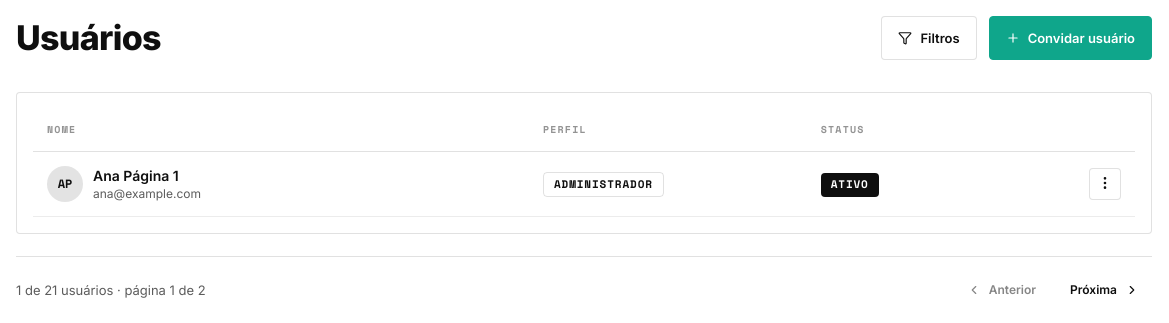
Test case: Usuarios — ADMIN/SUPORTE (veem tudo, criam tudo) › asks GET /v1/usuarios for the next page instead of slicing locally
This screenshot has width=1169, height=323.
Expected: the text "Ana Página 1" is shown, x1=93 y1=167 x2=179 y2=184
Expected: the text "Beto Página 2" is not shown
Click the button "Próxima". click: x=1104, y=290
box: x1=1057 y1=273 x2=1152 y2=307
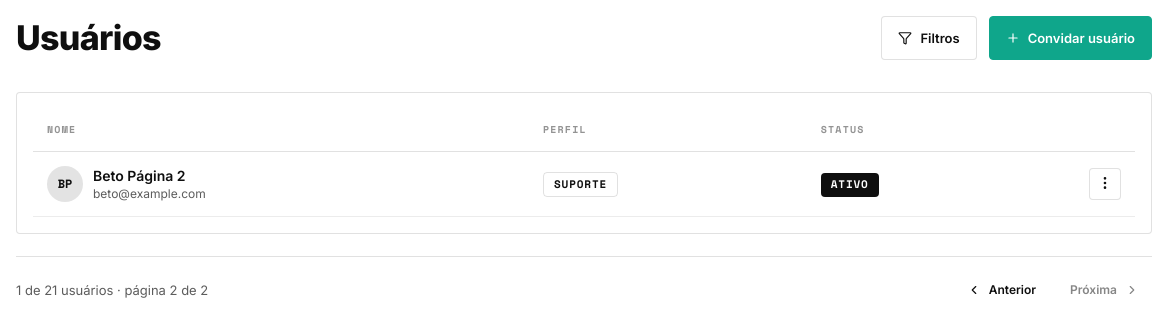
Now the text "Beto Página 2" is shown, box x1=93 y1=167 x2=186 y2=184
Now the text "Ana Página 1" is gone
